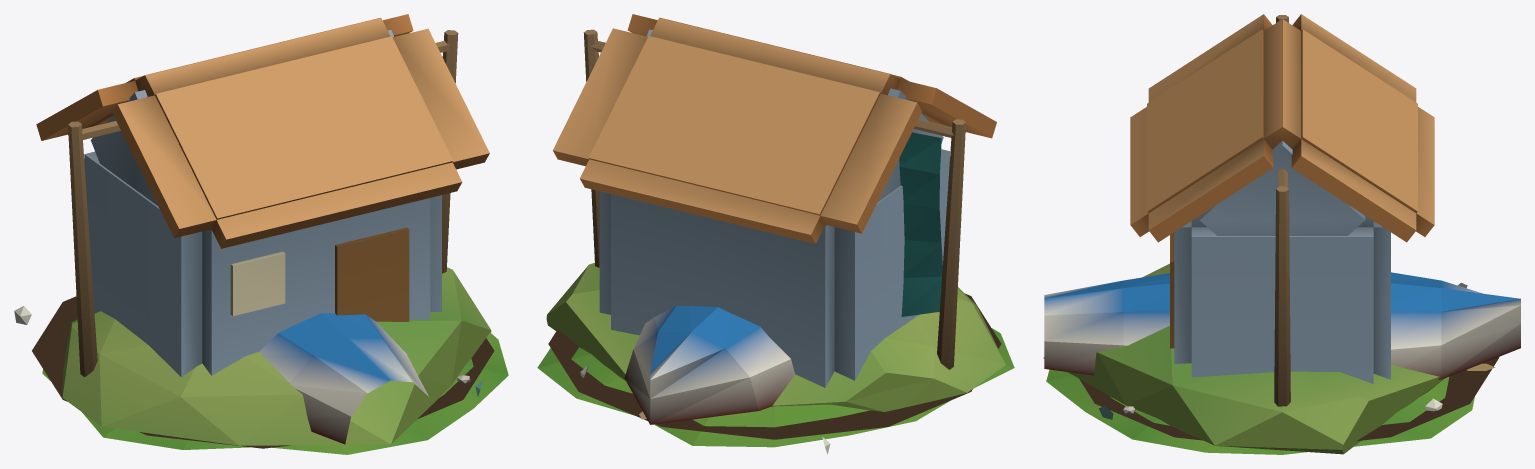
Rendered from coast_props.glb.
The picture shows the model from 3 angles, left to right: view 1: azimuth 30°, elevation 25°; view 2: azimuth 150°, elevation 25°; view 3: azimuth 270°, elevation 25°; orthographic projection. The views are drawn at different scales.
Visible parts, largest first — view 1: fisher_hut, grasscap, dinghy, net_poles, grasspatch, blob; view 2: fisher_hut, grasscap, dinghy, grasspatch, net, blob, net_poles; view 3: fisher_hut, grasscap, dinghy, grasspatch, net_poles, blob.
Boxes of the visible parts, x1=… form: fisher_hut: x1=36, y1=14, x2=489, y2=377; grasscap: x1=62, y1=267, x2=491, y2=445; dinghy: x1=260, y1=313, x2=429, y2=444; net_poles: x1=68, y1=30, x2=458, y2=376; grasspatch: x1=42, y1=333, x2=508, y2=454; blob: x1=32, y1=296, x2=494, y2=448; fisher_hut: x1=553, y1=14, x2=996, y2=387; grasscap: x1=546, y1=262, x2=1005, y2=411; dinghy: x1=624, y1=306, x2=795, y2=424; grasspatch: x1=537, y1=328, x2=1014, y2=447; net: x1=899, y1=132, x2=942, y2=316; blob: x1=548, y1=293, x2=1001, y2=439; net_poles: x1=583, y1=29, x2=965, y2=369; fisher_hut: x1=1130, y1=14, x2=1434, y2=383; grasscap: x1=1043, y1=263, x2=1444, y2=454; dinghy: x1=1044, y1=272, x2=1520, y2=379; grasspatch: x1=1046, y1=356, x2=1499, y2=454; net_poles: x1=1274, y1=15, x2=1290, y2=406; blob: x1=1079, y1=357, x2=1498, y2=449.
Size of the model in its own units: 2.01 by 1.51 by 2.21.
